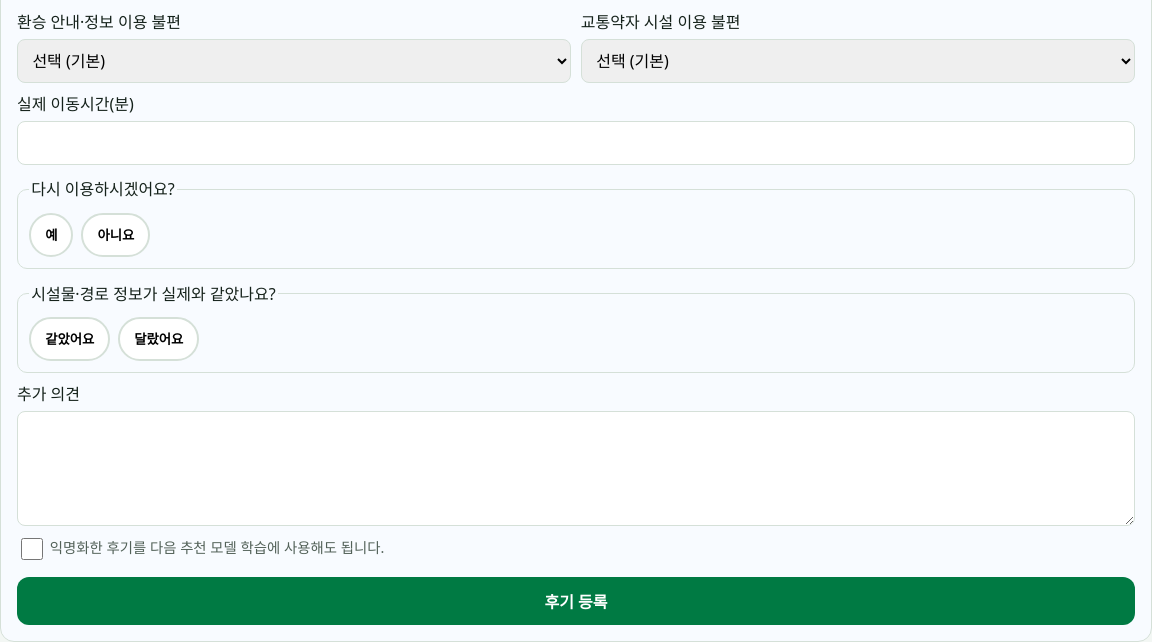
Scenario: 실제 경로 이용 후기 › 이용 가능 여부를 고르지 않으면 후기를 전송하지 않는다
(page scrolled)
Click the button "후기 등록". click: click(576, 601)
box: [17,577,1135,625]
(page scrolled)
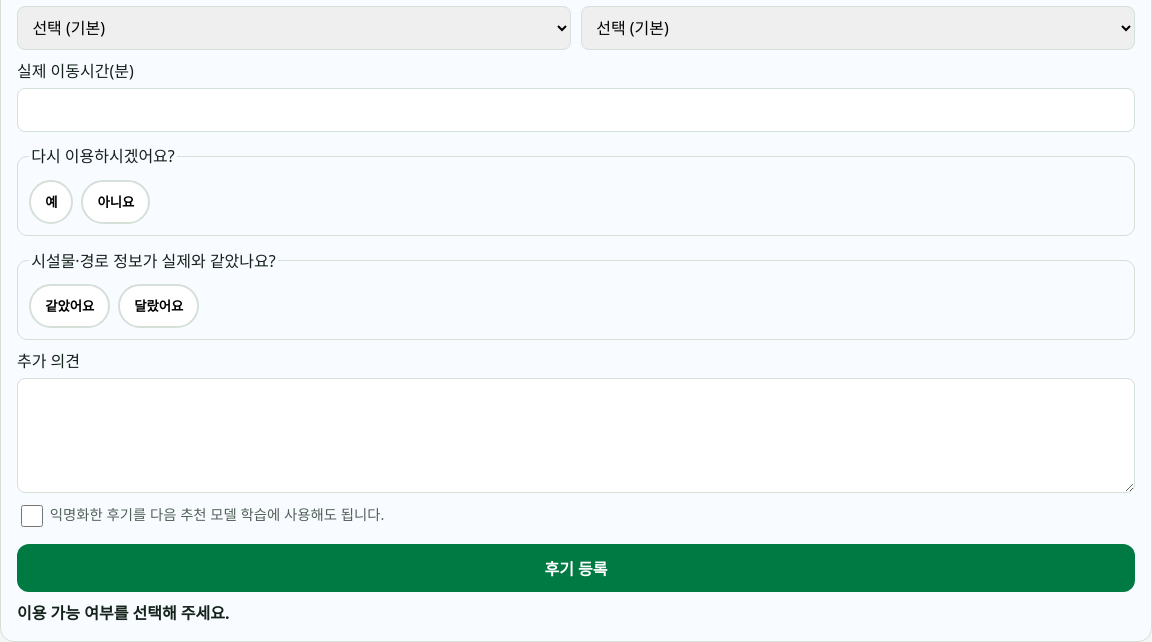
Expected: the message shows "이용 가능 여부", [17,602,230,624]
